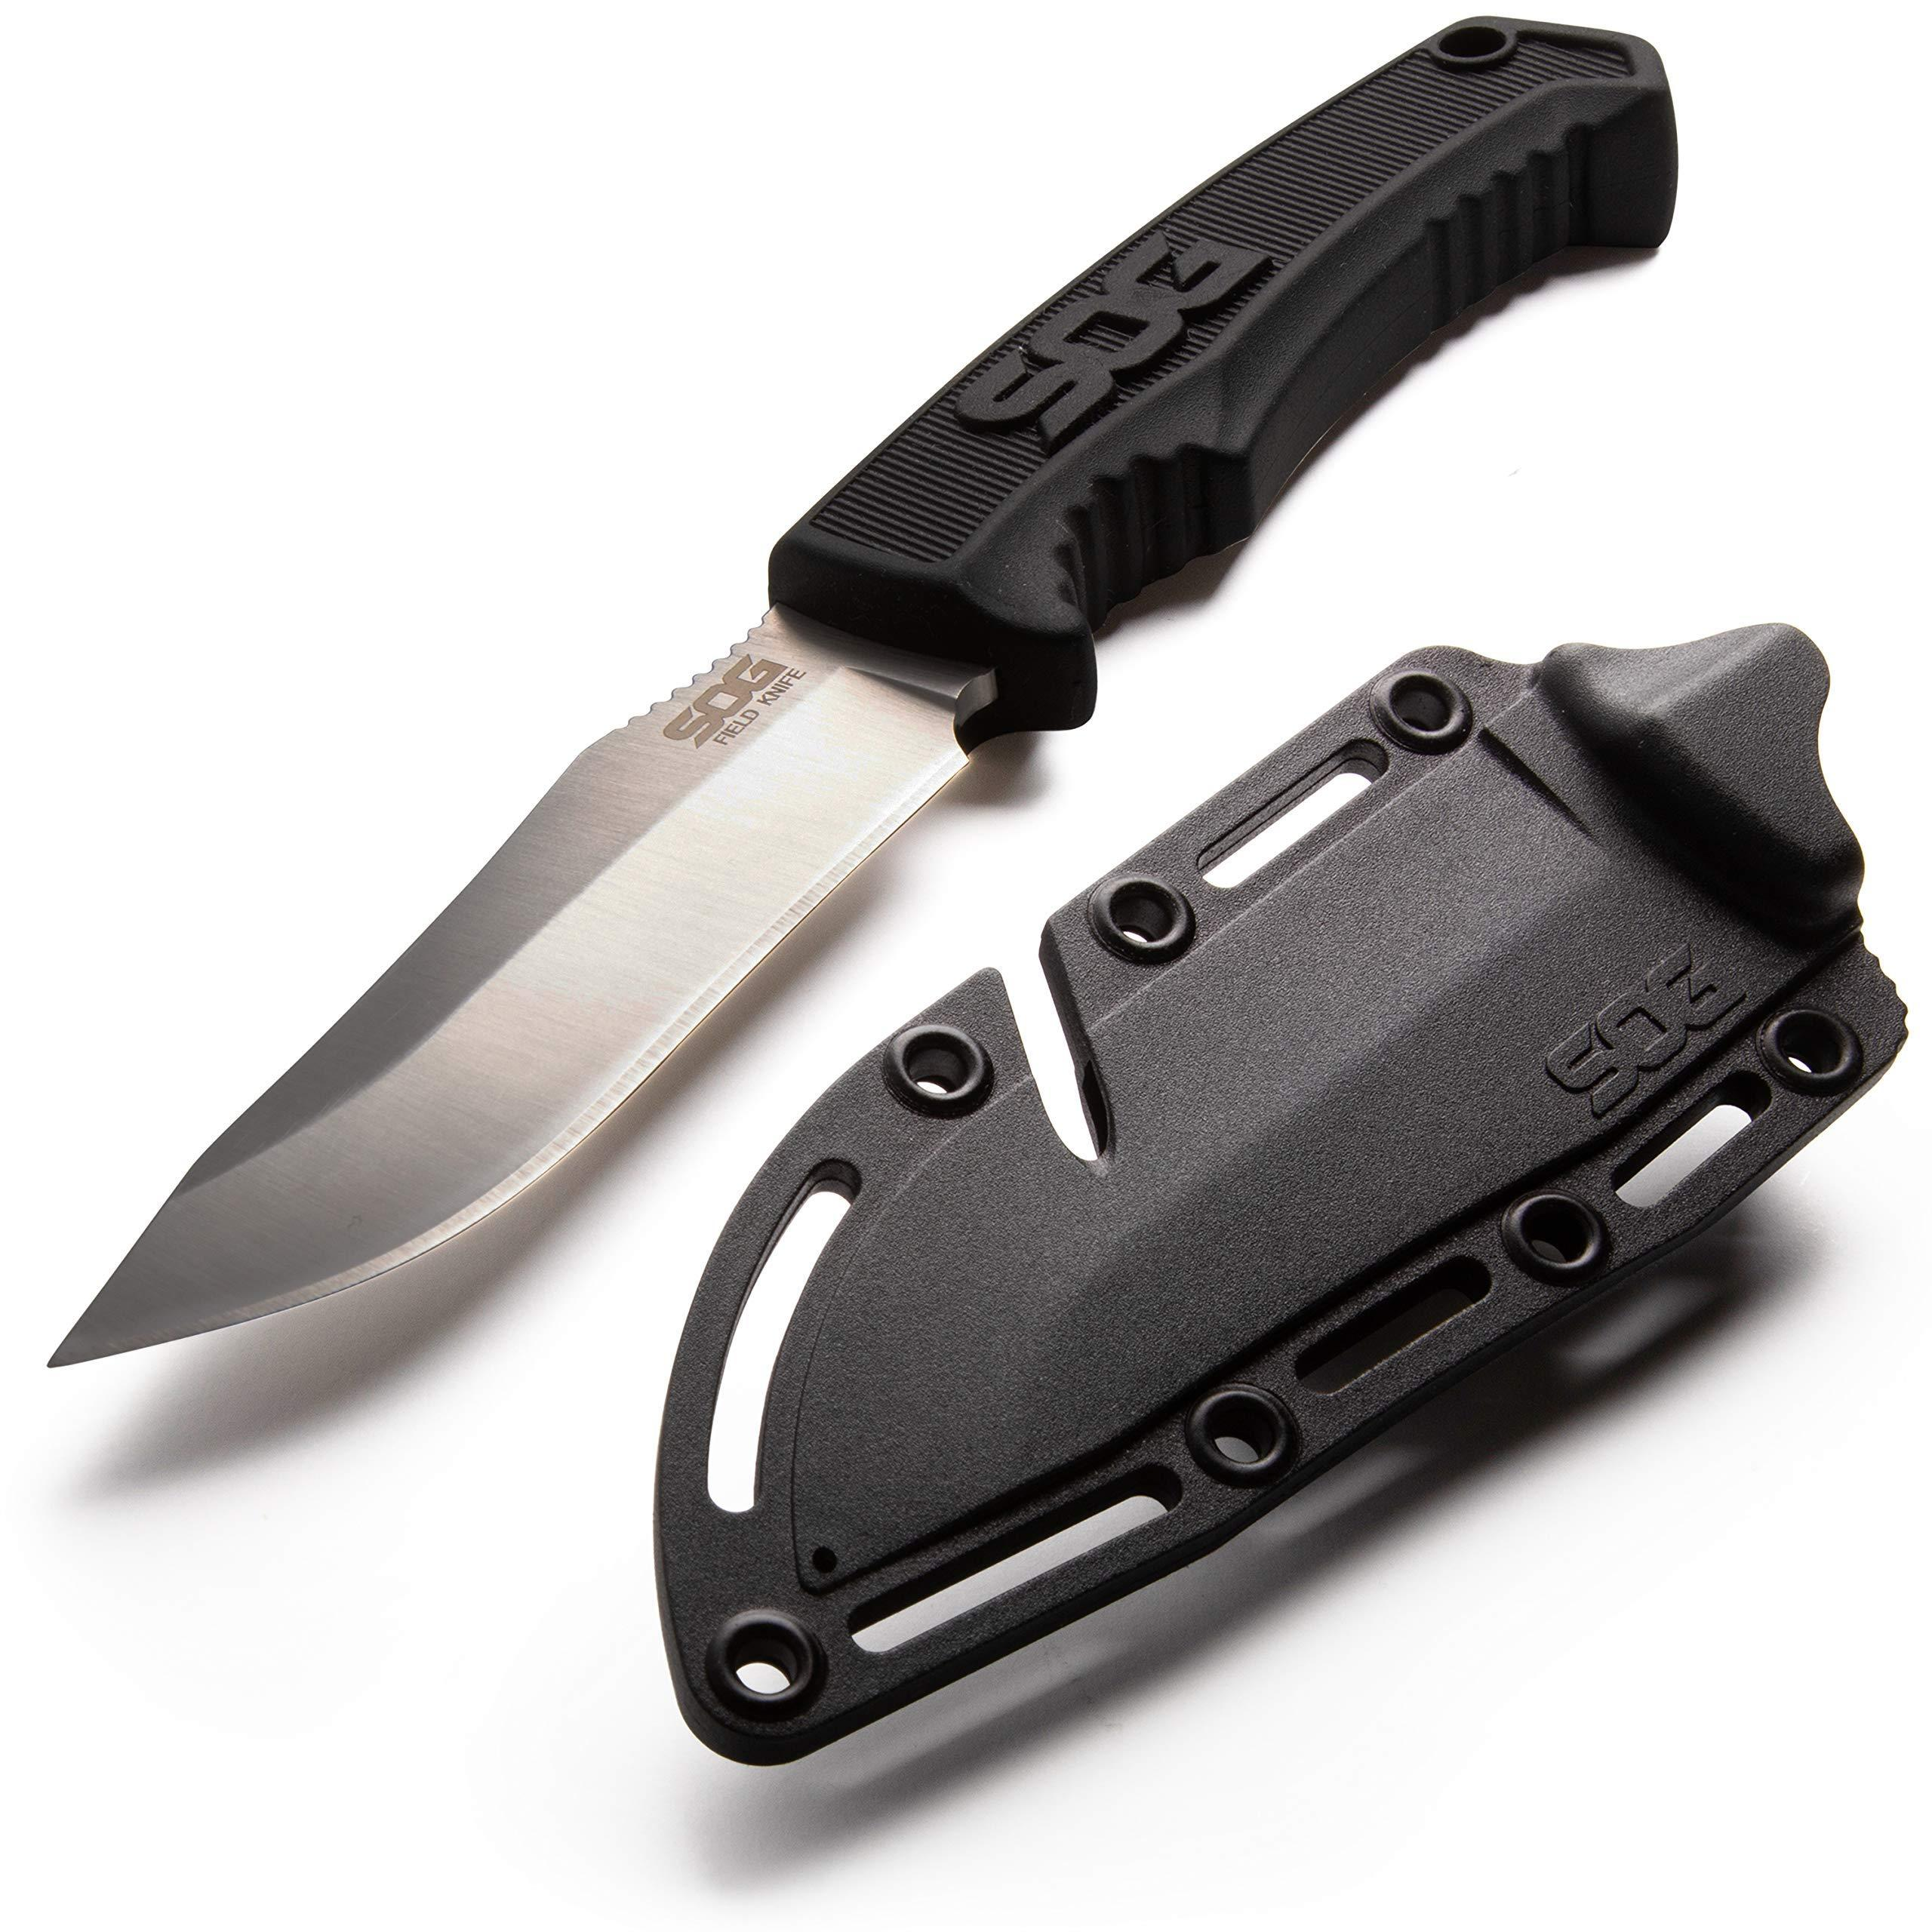faca: (50, 16, 1675, 1366)
